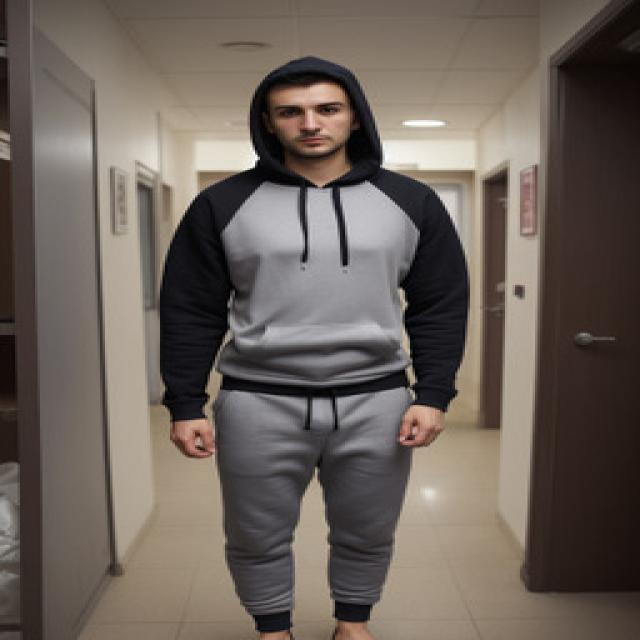Ai human 2: (143, 39, 501, 640)
